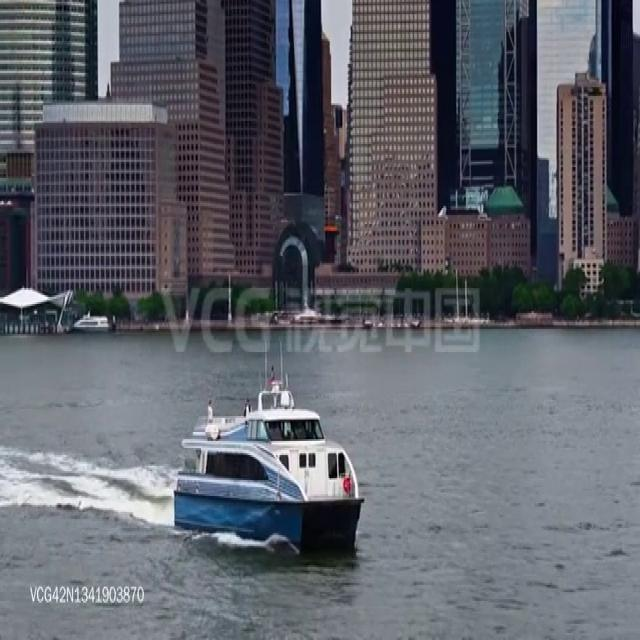houseboat: (173, 373, 363, 552), (73, 308, 110, 331)
